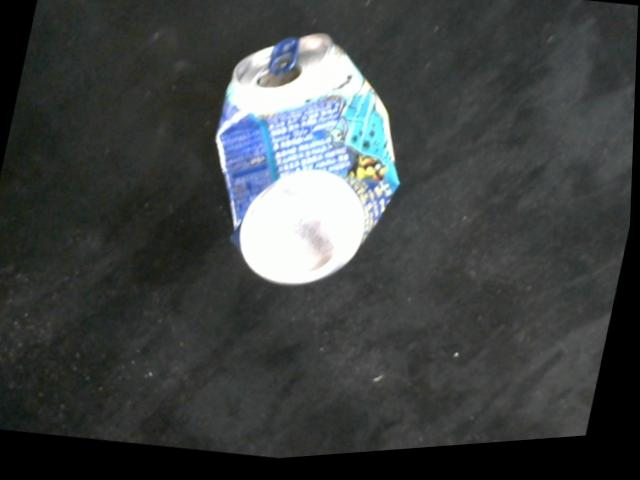can: (216, 39, 408, 288)
